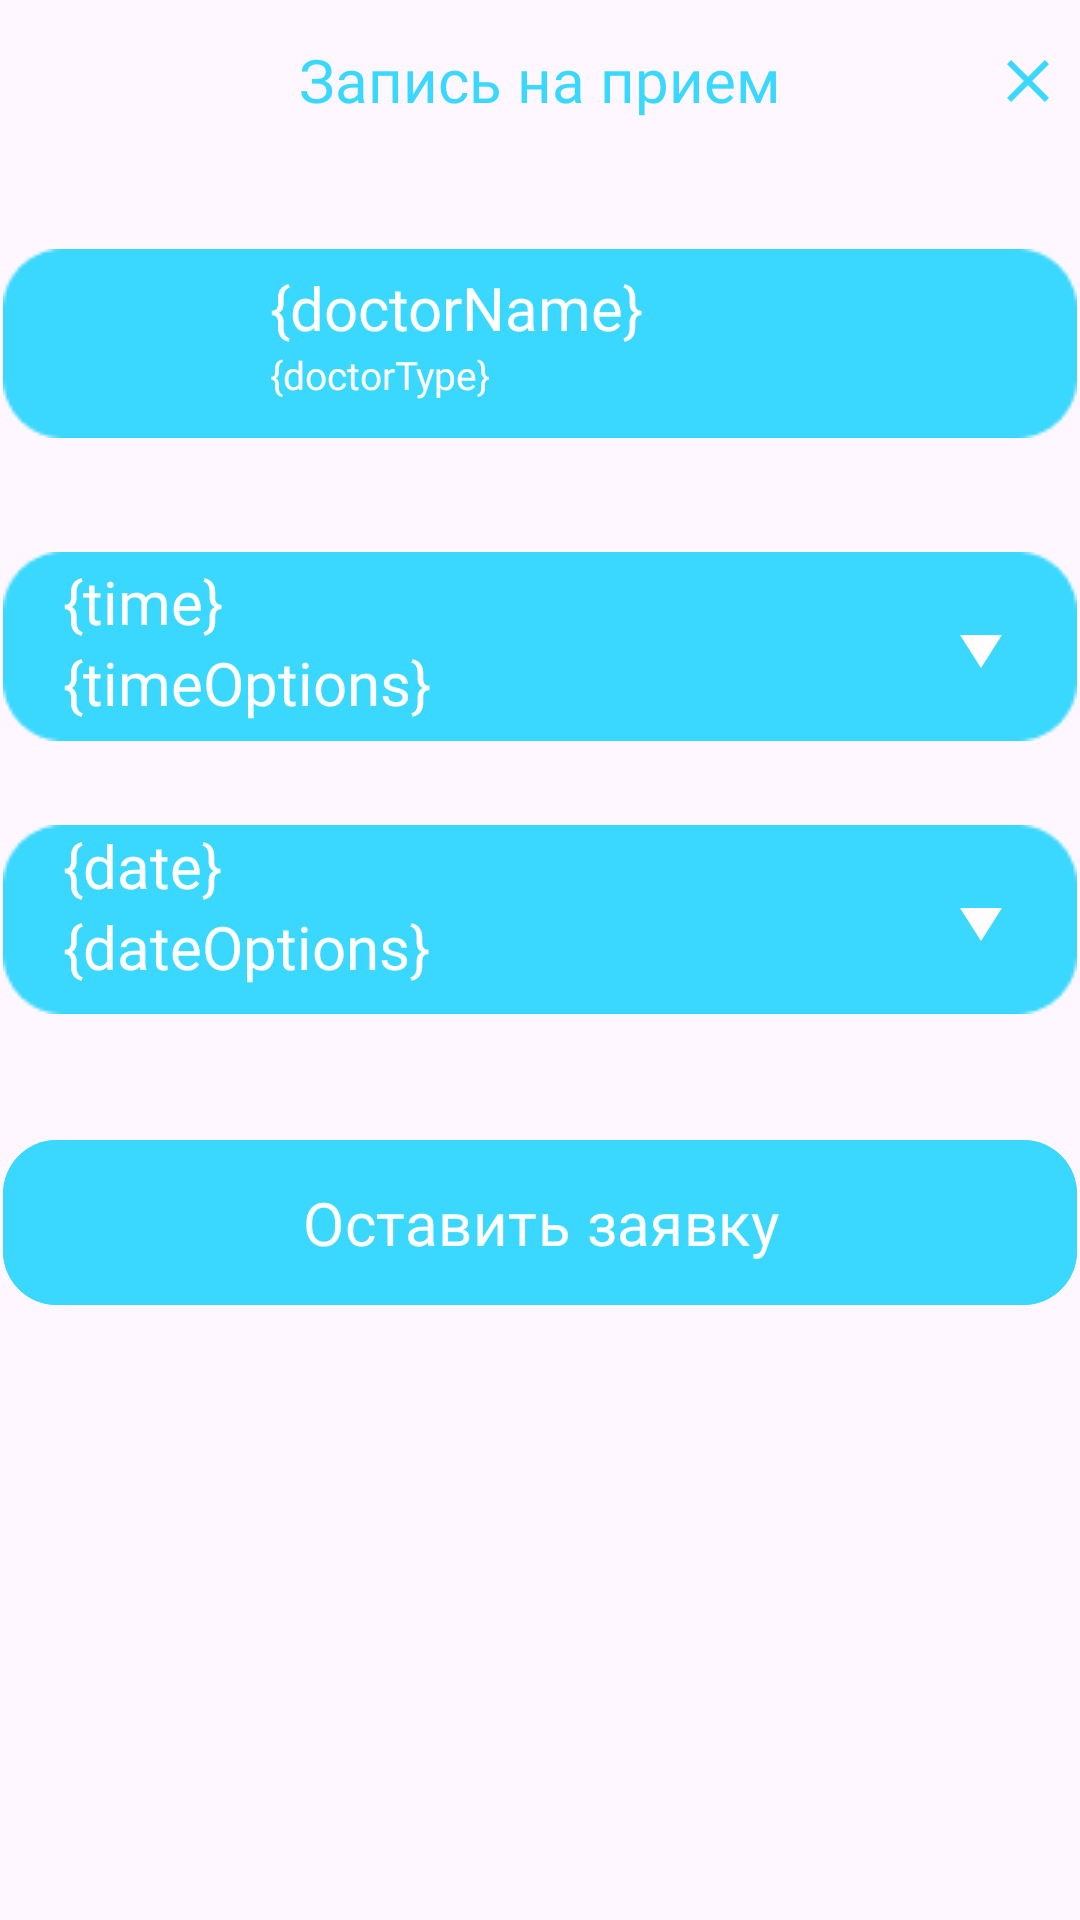

Point at icon controls on the screen. Image size 1080×1920, points as [x,y].
close: [1028,81]
